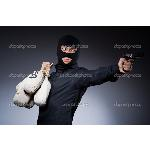Pistol: (120, 51, 144, 75)
